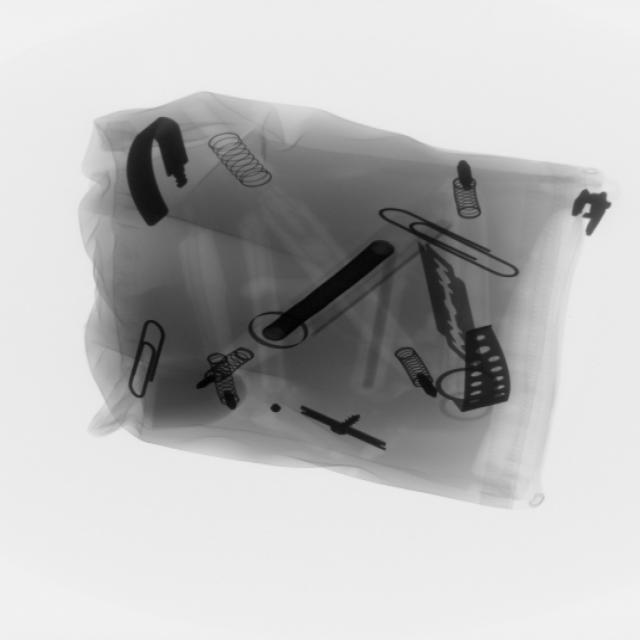BLADE: (414, 238, 484, 361)
